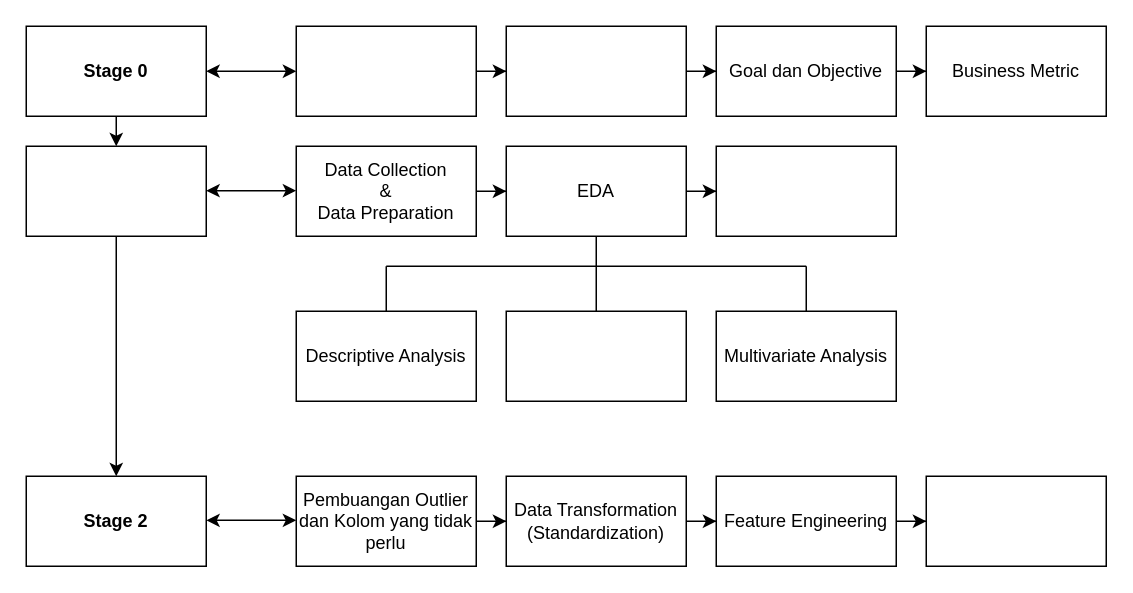
Some shapes in this 1133 by 593 pixel diagram are drawn without their labels. Each missing label, with the centre of its shape:
Business Insight: the point at 805,190
Business Understanding: the point at 385,70
Penentuan Role: the point at 595,70
Stage 1: the point at 115,190
TBA: the point at 1015,520
Univariate Analysis: the point at 595,355
